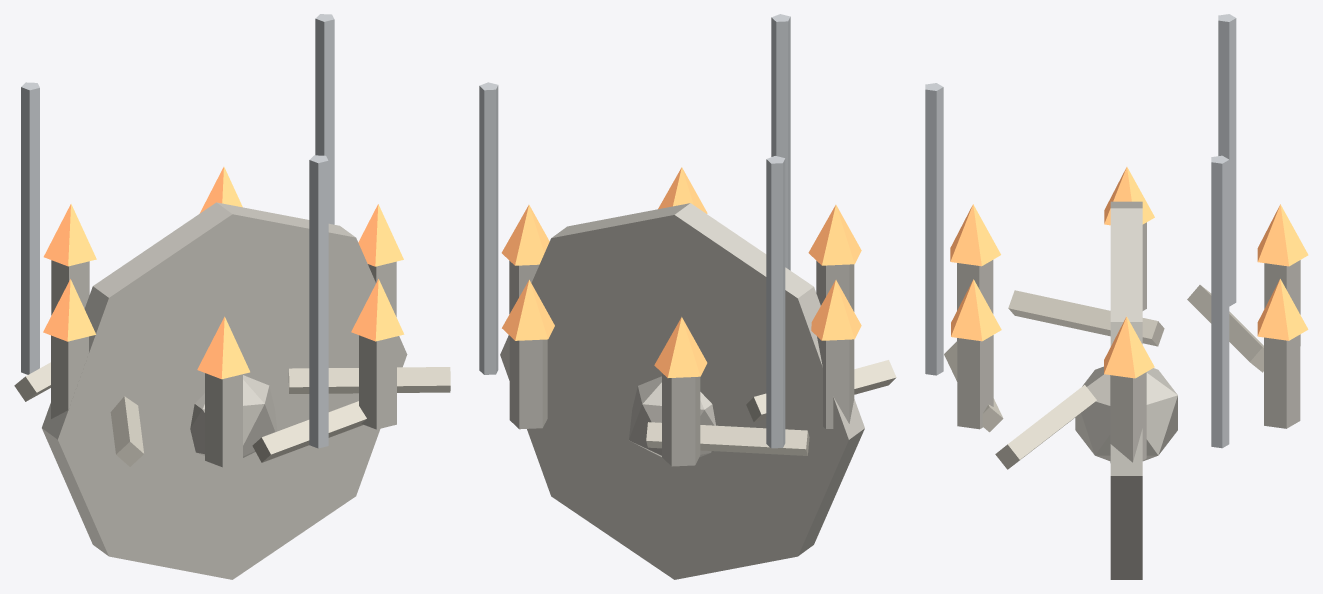
Rendered from bone_chandelier.glb.
3 renders of one model, left to right at view 1: azimuth 30°, elevation 25°; view 2: azimuth 150°, elevation 25°; view 3: azimuth 270°, elevation 25°, orthographic.
Visible parts, largest first — view 1: ring, chain_2, chain_1.002, candle_4, chain_0.002, candle_5, bone_1.001, skull.001, bone_2.001, candle_3, flame_2.002, flame_4.001 (+8 smaller); view 2: ring, chain_1.002, chain_0.002, chain_2, candle_1.001, candle_2, bone_0.001, candle_3, skull.001, flame_1.003, flame_4.001, flame_2.002 (+6 smaller); view 3: ring, chain_2, chain_0.002, skull.001, chain_1.002, candle_1.001, bone_3, candle_5, candle_0.001, bone_1.001, flame_2.002, flame_1.003 (+8 smaller).
Part boxes in pixels (x1,y1,x2,y2): ring: [42, 202, 407, 579]; chain_2: [309, 155, 328, 448]; chain_1.002: [21, 82, 39, 374]; candle_4: [205, 373, 242, 467]; chain_0.002: [315, 14, 334, 224]; candle_5: [359, 335, 396, 429]; bone_1.001: [288, 367, 450, 393]; skull.001: [190, 375, 277, 457]; bone_2.001: [252, 401, 366, 462]; candle_3: [51, 335, 88, 418]; flame_2.002: [43, 204, 96, 266]; flame_4.001: [197, 316, 249, 379]; ring: [500, 203, 864, 579]; chain_1.002: [766, 156, 785, 448]; chain_0.002: [479, 82, 498, 374]; chain_2: [771, 14, 790, 270]; candle_1.001: [509, 336, 547, 429]; candle_2: [662, 373, 700, 466]; bone_0.001: [646, 422, 809, 455]; candle_3: [817, 336, 854, 428]; skull.001: [629, 376, 715, 457]; flame_1.003: [502, 279, 554, 340]; flame_4.001: [808, 205, 861, 265]; flame_2.002: [654, 317, 707, 377]; ring: [1110, 201, 1142, 579]; chain_2: [925, 83, 943, 375]; chain_0.002: [1211, 155, 1229, 448]; skull.001: [1075, 366, 1177, 461]; chain_1.002: [1218, 14, 1236, 306]; candle_1.001: [1264, 334, 1300, 428]; bone_3: [1008, 290, 1164, 346]; candle_5: [957, 335, 993, 429]; candle_0.001: [1110, 372, 1146, 462]; bone_1.001: [995, 385, 1096, 469]; flame_2.002: [1257, 204, 1308, 266]; flame_1.003: [1257, 279, 1308, 340].
Bounding box in the file's own units: 1.01 × 1.33 × 0.9522.
